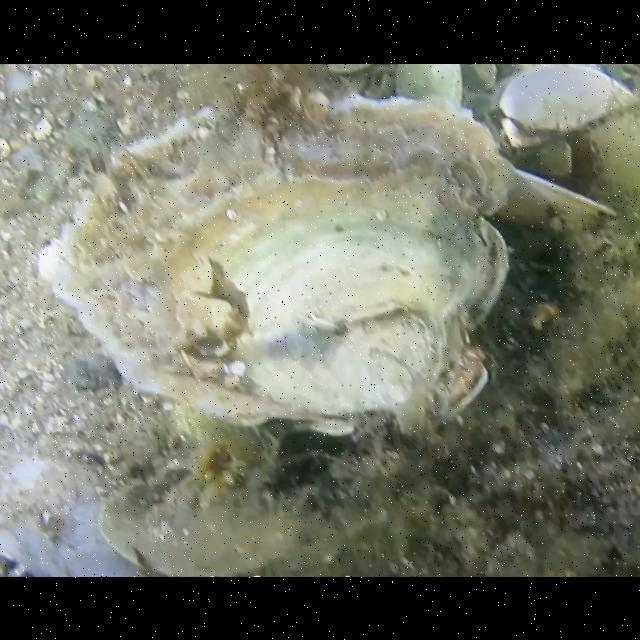Oyster-Closed: (37, 84, 515, 436)
